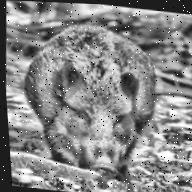boar: (4, 4, 185, 192)
